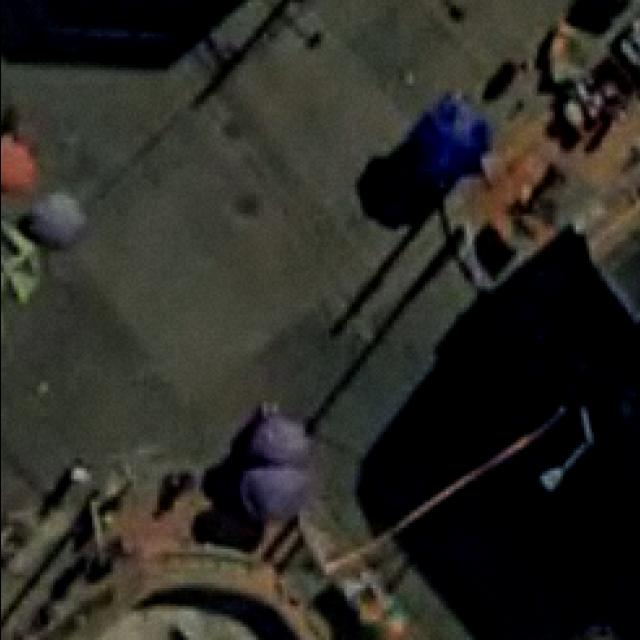vendedor_ambulante: (408, 90, 486, 186), (236, 458, 312, 526), (243, 412, 310, 468), (26, 188, 84, 246), (0, 130, 42, 195)
